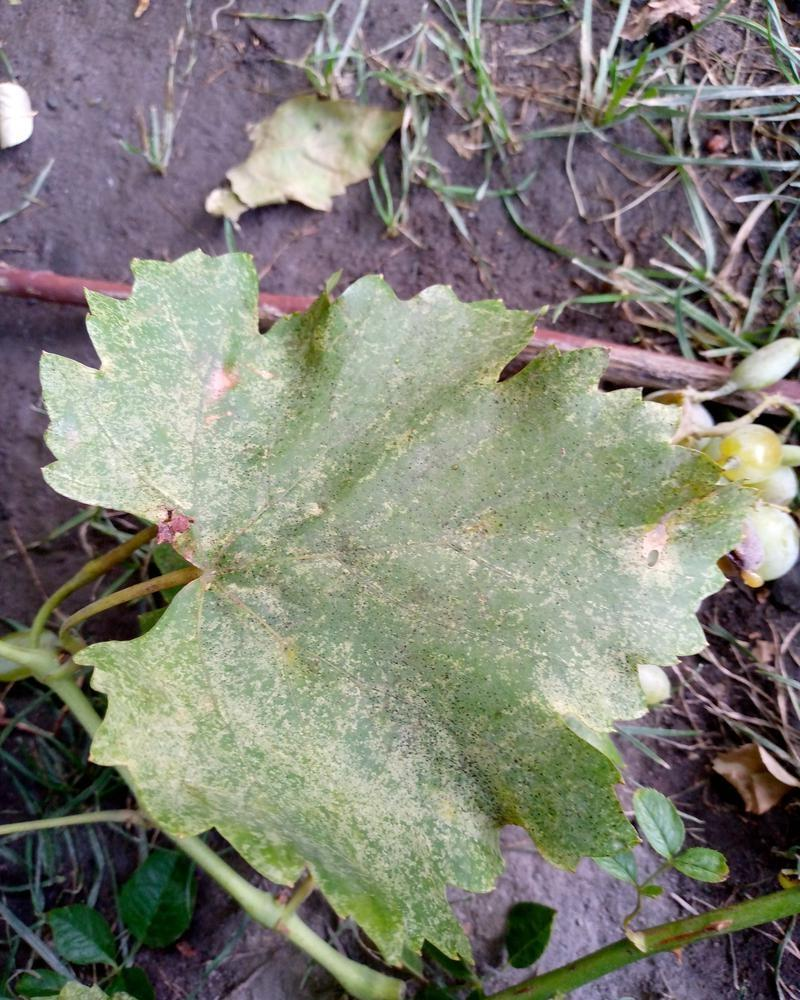Powdery-Mildew: (71, 292, 260, 508), (325, 719, 495, 886), (127, 659, 278, 833), (602, 479, 795, 586), (356, 724, 467, 909), (332, 288, 475, 431), (535, 592, 681, 726), (642, 404, 705, 467)
